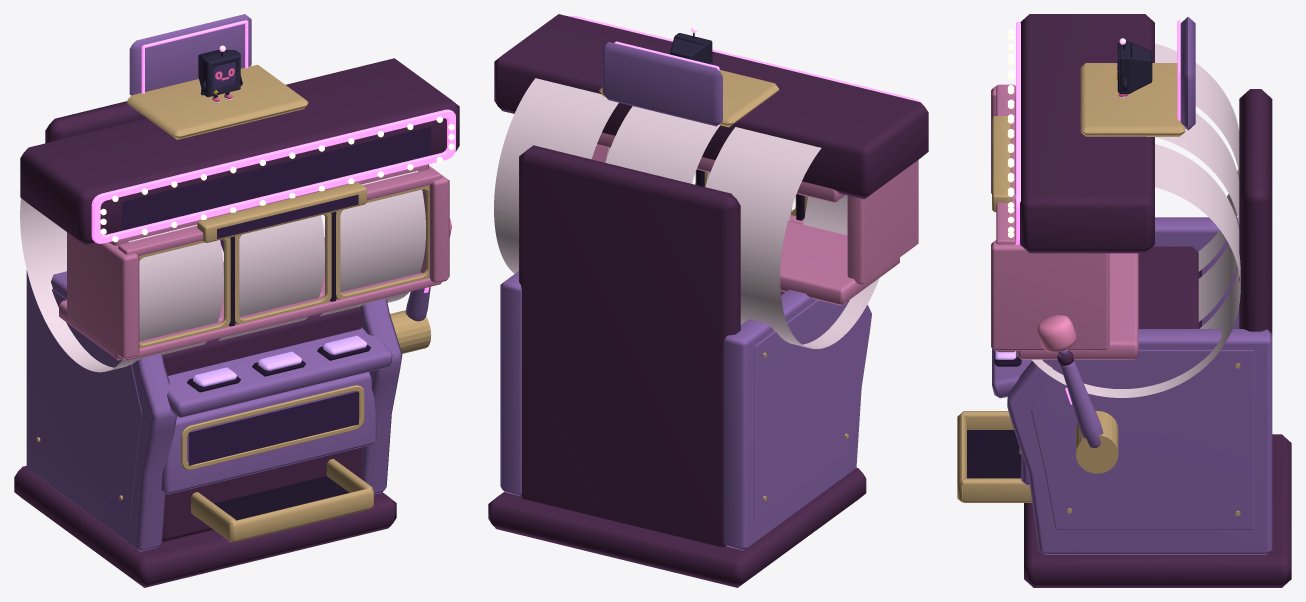
Rendered from slot.glb.
3 renders of one model, left to right at view 1: azimuth 30°, elevation 25°; view 2: azimuth 150°, elevation 25°; view 3: azimuth 270°, elevation 25°, orthographic. The views are drawn at different scales.
Visible parts, largest first — view 1: marquee_housing, side_inset_left, reel_1, base, side_panel_left, lower_body, marquee, status_panel, reel_3, control_deck, reel_2, reel_bay_jamb (+26 smaller); view 2: back_shell, marquee_housing, side_inset_left, reel_1, base, side_panel_left, reel_3, stage_back, reel_bay_jamb, reel_2, reel_bay_floor, side_panel_right (+4 smaller); view 3: side_inset_right, marquee_housing, side_panel_right, base, reel_bay_jamb.001, back_shell, reel_3, emi_stage, lower_body, reel_2, reel_bay_floor, reel_1 (+15 smaller).
Boxes of the visible parts, <box> form: marquee_housing: <box>20,58,459,245</box>; side_inset_left: <box>31,288,141,521</box>; reel_1: <box>20,198,223,372</box>; base: <box>14,466,396,587</box>; side_panel_left: <box>26,270,176,551</box>; lower_body: <box>162,307,361,542</box>; marquee: <box>122,126,430,230</box>; status_panel: <box>161,372,376,494</box>; reel_3: <box>319,170,425,316</box>; control_deck: <box>167,327,392,417</box>; reel_2: <box>218,215,324,340</box>; reel_bay_jamb: <box>67,232,139,359</box>; back_shell: <box>519,145,740,546</box>; marquee_housing: <box>494,14,928,199</box>; side_inset_left: <box>754,300,863,519</box>; reel_1: <box>705,127,879,348</box>; base: <box>488,467,866,587</box>; side_panel_left: <box>723,289,871,550</box>; reel_3: <box>494,78,692,273</box>; stage_back: <box>602,42,722,126</box>; reel_bay_jamb: <box>847,160,918,285</box>; reel_2: <box>605,106,792,220</box>; reel_bay_floor: <box>780,221,899,305</box>; side_panel_right: <box>500,271,521,496</box>; side_inset_right: <box>1031,350,1254,529</box>; marquee_housing: <box>1020,14,1154,253</box>; side_panel_right: <box>1007,329,1272,554</box>; base: <box>1024,434,1291,587</box>; reel_bay_jamb.001: <box>991,240,1109,350</box>; back_shell: <box>1239,89,1272,333</box>; reel_3: <box>1015,144,1240,397</box>; emi_stage: <box>1080,63,1185,136</box>; lower_body: <box>1138,246,1201,328</box>; reel_2: <box>1015,113,1239,321</box>; reel_bay_floor: <box>1017,253,1138,359</box>; reel_1: <box>1015,43,1239,271</box>.
Bounding box in the file's own units: 1.64 × 1.96 × 1.21.
Materials: 27 (1 with a texture image).
